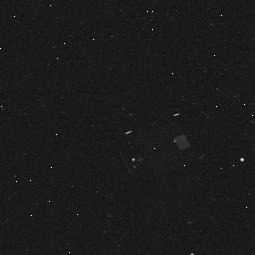proba_3_csc: (100, 92, 227, 194)
